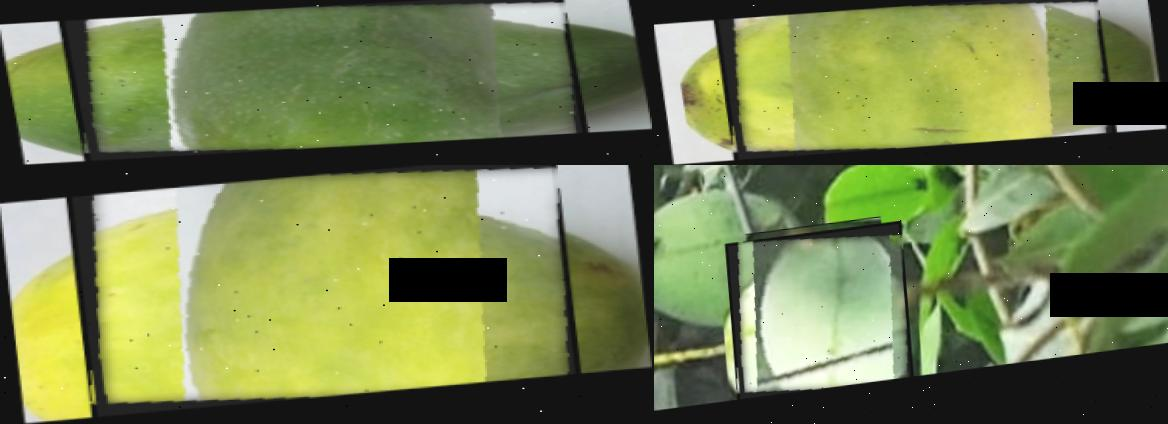PartiallyRipe: (69, 165, 578, 418), (716, 0, 1115, 160)
Unripe: (62, 0, 585, 161), (727, 222, 912, 399)
